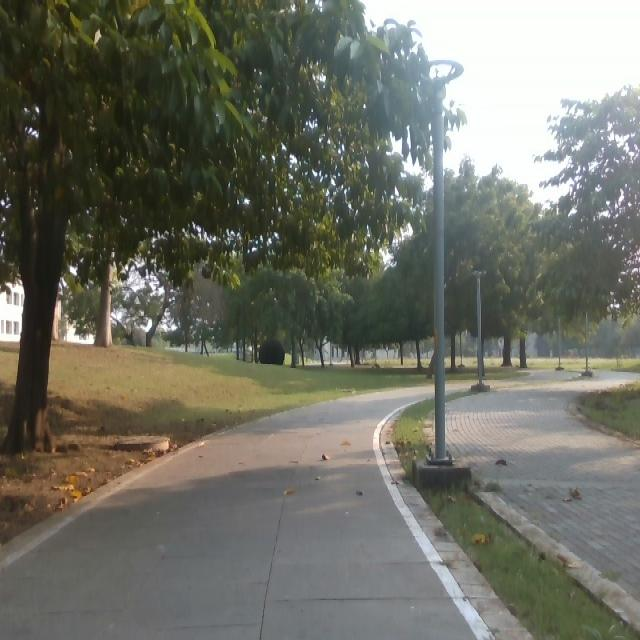lane: (3, 383, 475, 637)
